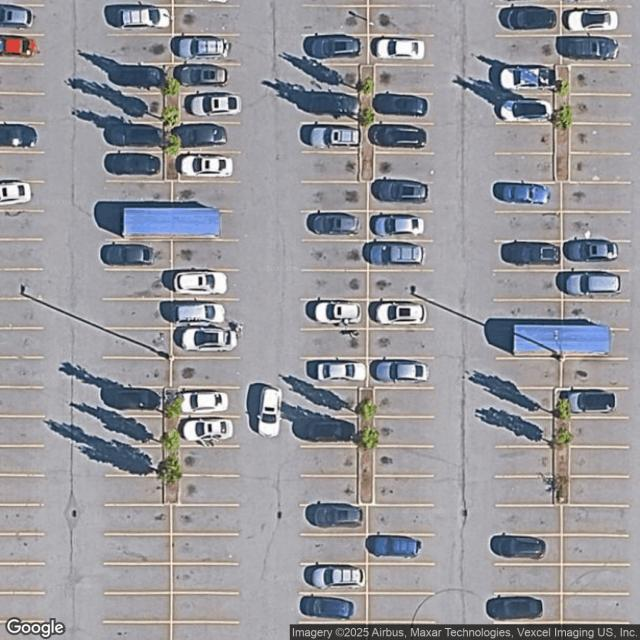car: (566, 271, 622, 297), (180, 153, 233, 180), (257, 384, 283, 439), (562, 236, 616, 262), (374, 214, 424, 241), (192, 93, 240, 118), (569, 11, 618, 35), (182, 391, 229, 416), (0, 4, 33, 29), (0, 180, 32, 204)
